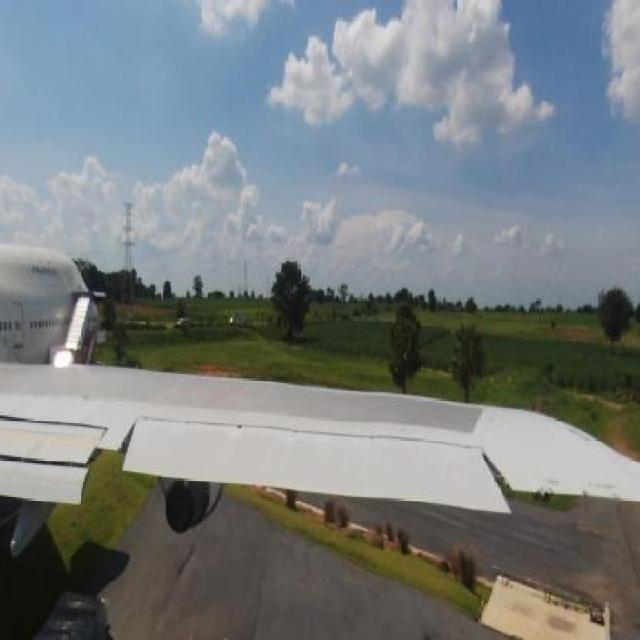Scartch: (544, 465, 624, 493), (558, 414, 592, 448)
